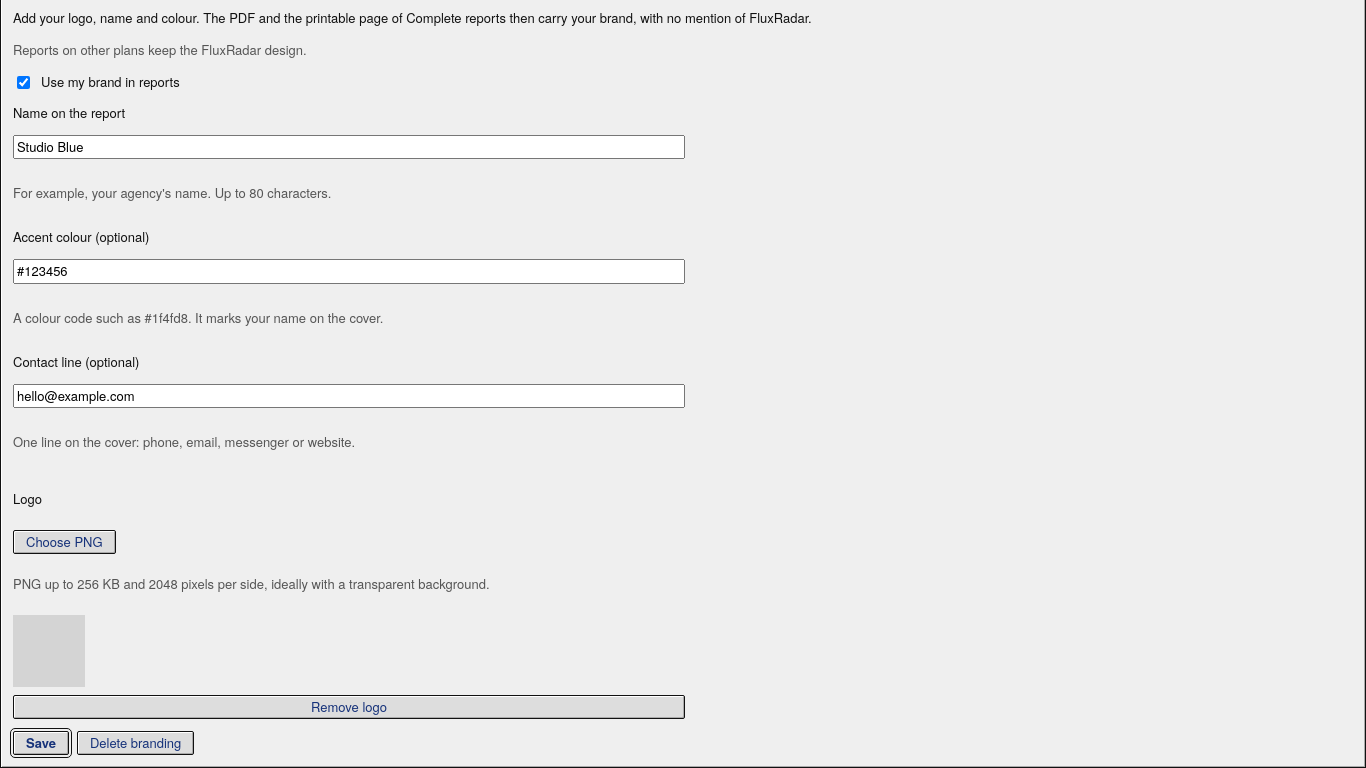
server error copy en › maps VALIDATION to its sentence
The image size is (1366, 768).
(page scrolled)
Click the button "Save": (41, 743) [13,731,69,755]
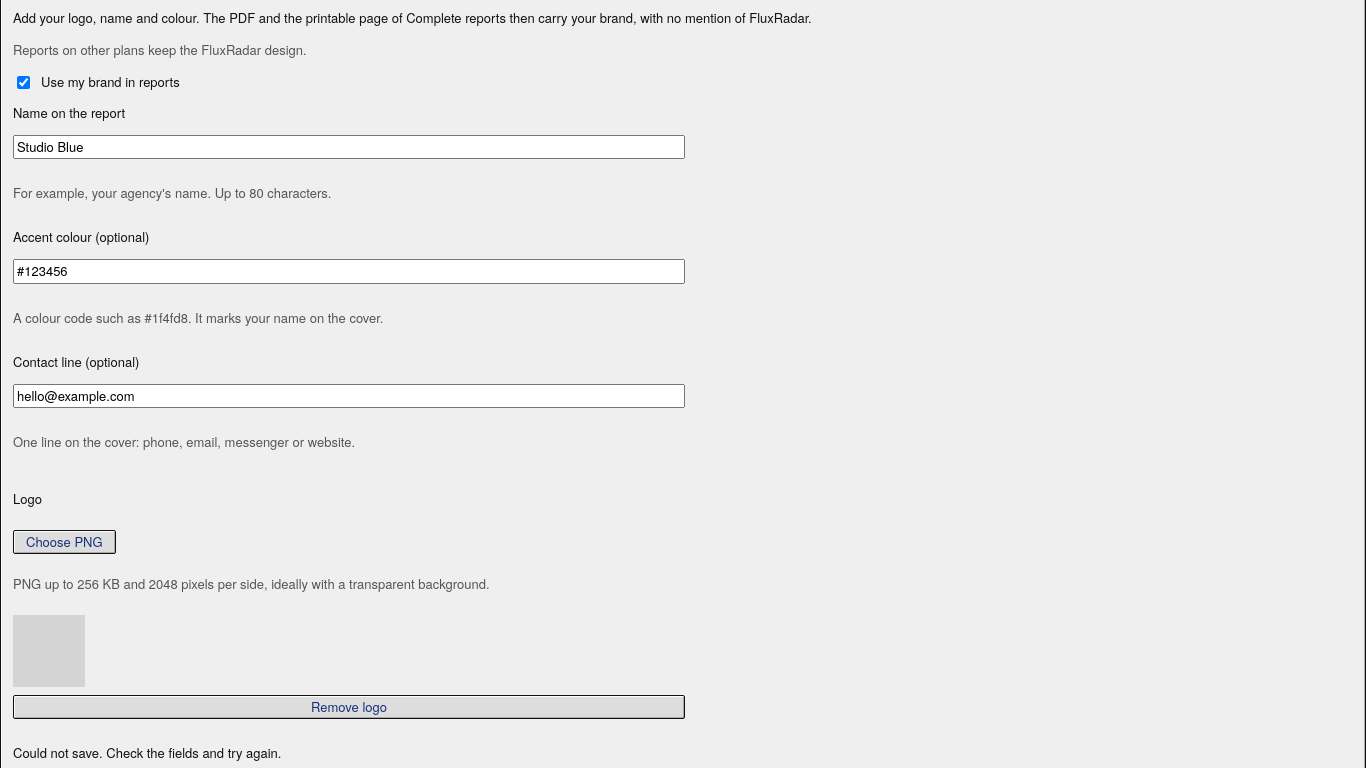
Expected: the message reads "Could not save. Check the fields and try again.", [13,743,281,762]
